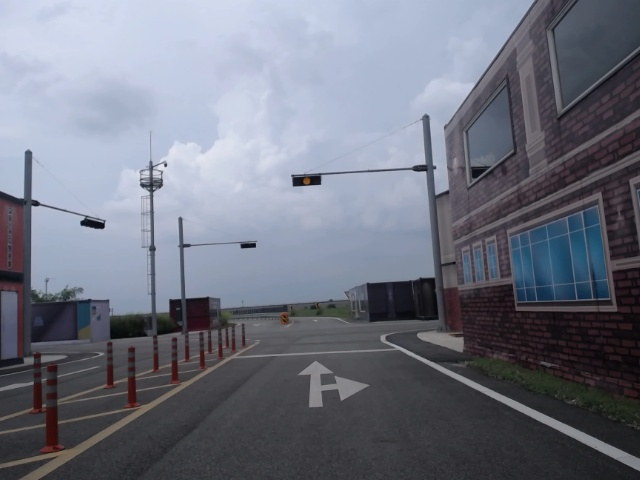orange_3: (292, 175, 322, 186)
